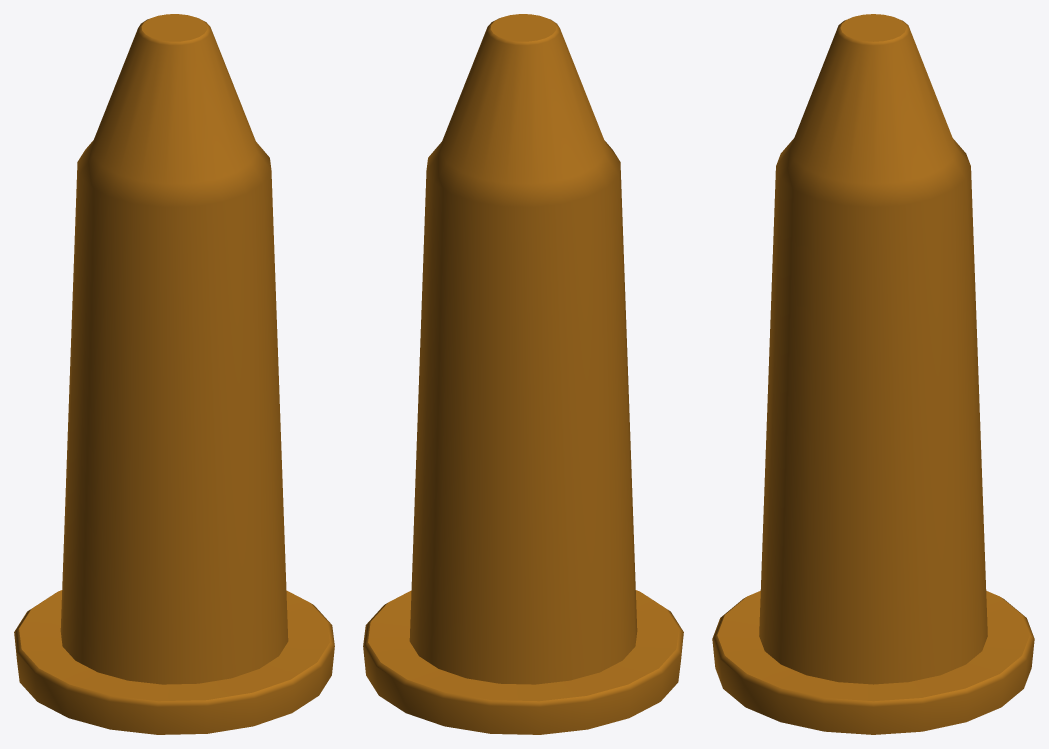
File: Blocker_C.fbx
3 views of the same model, side by side, from view 1: azimuth 30°, elevation 25°; view 2: azimuth 150°, elevation 25°; view 3: azimuth 270°, elevation 25° (orthographic).
Visible parts, largest first — view 1: Blocker_C; view 2: Blocker_C; view 3: Blocker_C.
Boxes of the visible parts, box(x1,y1,x2,y2) form: Blocker_C: box(14, 14, 334, 734); Blocker_C: box(363, 14, 683, 734); Blocker_C: box(712, 14, 1034, 734).
Size of the model in its own units: 1.36 by 2.98 by 1.36.
